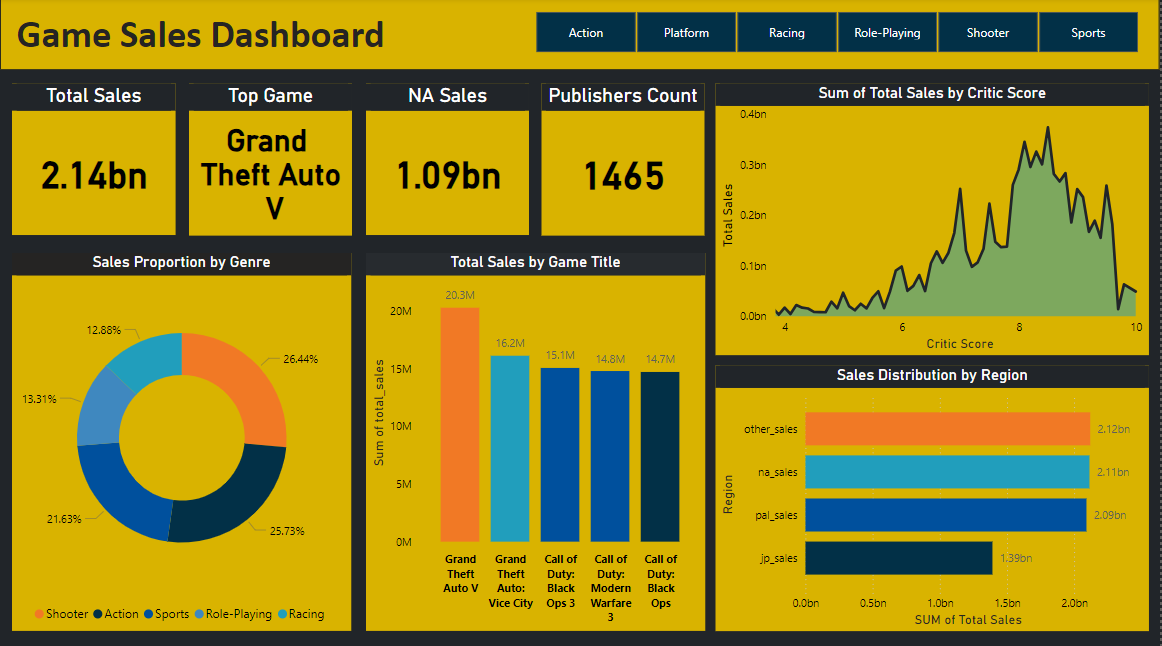

Layout of this report page (visuals, bound fields, positions):
{"tool":"powerbi","page":{"name":"Page 1","canvas":[1280,720],"ordinal":0},"visuals":[{"type":"shape","box":[0,0,1280.5,79.5],"z":0},{"type":"columnChart","title":"Total Sales by Game Title","fields":{"Category":["Video Games Data (2).title"],"Y":["Sum(Video Games Data (2).total_sales)"]},"box":[404.2,281.6,374.4,417.4],"z":1000},{"type":"textbox","box":[13.3,8.3,448.9,62.9],"z":2000},{"type":"card","title":"Top Game","fields":{"Values":["Min(Video Games Data (4).title)"]},"box":[208,94,180,168],"z":3000},{"type":"card","title":"Total Sales","fields":{"Values":["Video Games Data (3).Total sale all games"]},"box":[13.3,94.4,180.6,167.3],"z":4000},{"type":"donutChart","title":"Sales Proportion by Genre","fields":{"Category":["Video Games Data (3).genre"],"Y":["Sum(Video Games Data (3).total_sales)"]},"box":[13.3,281.6,374.4,417.4],"z":5000},{"type":"areaChart","title":"Sum of Total Sales by Critic Score","fields":{"Y":["Sum(Video Games Data (4).total_sales)"],"Category":["Video Games Data (4).critic_score"]},"box":[790.1,94.4,478.7,299.8],"z":6000},{"type":"barChart","title":"Sales Distribution by Region","fields":{"Category":["Video Games Data (4).Region"],"Y":["Sum(Video Games Data (4).total_sales)"]},"box":[790.1,405.8,478.7,293.2],"z":7000},{"type":"card","title":"NA Sales","fields":{"Values":["Sum(Video Games Data (3).na_sales)"]},"box":[404.2,94.2,180,167.5],"z":8000},{"type":"card","title":"Publishers Count","fields":{"Values":["Count(Video Games Data (3).developer)"]},"box":[598,94,180,168],"z":9000},{"type":"slicer","fields":{"Values":["Video Games Data (3).genre"]},"box":[566,8,714,58],"z":10000}]}

Visuals, with their boxes in screenshot pixels (x1, y1, x2, y2), scaled from the page's 1280x720 canvas onto the 1162x646 screenshot:
shape: (left=0, top=0, right=1161, bottom=71)
"Total Sales by Game Title" columnChart: (left=367, top=253, right=707, bottom=627)
textbox: (left=12, top=7, right=420, bottom=64)
"Top Game" card: (left=189, top=84, right=352, bottom=235)
"Total Sales" card: (left=12, top=85, right=176, bottom=235)
"Sales Proportion by Genre" donutChart: (left=12, top=253, right=352, bottom=627)
"Sum of Total Sales by Critic Score" areaChart: (left=717, top=85, right=1152, bottom=354)
"Sales Distribution by Region" barChart: (left=717, top=364, right=1152, bottom=627)
"NA Sales" card: (left=367, top=85, right=530, bottom=235)
"Publishers Count" card: (left=543, top=84, right=706, bottom=235)
slicer - Video Games Data (3).genre: (left=514, top=7, right=1161, bottom=59)
